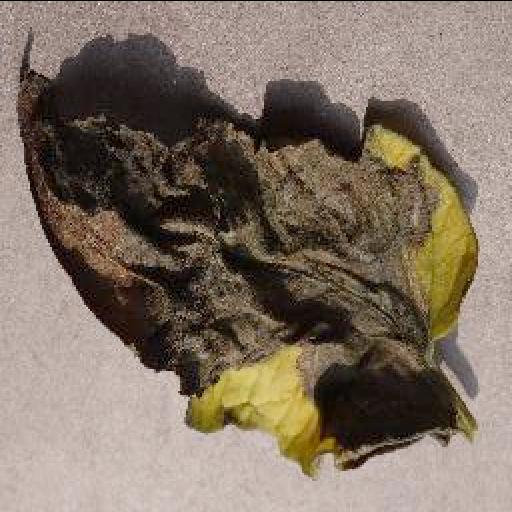disease_tomato: (12, 62, 482, 482)
